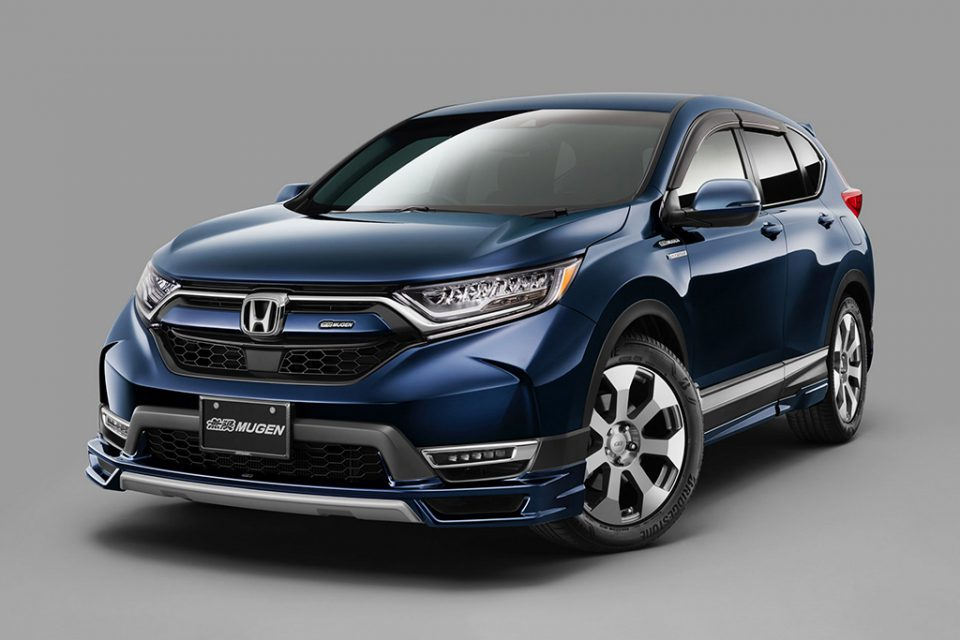pickup: (87, 89, 877, 552)
